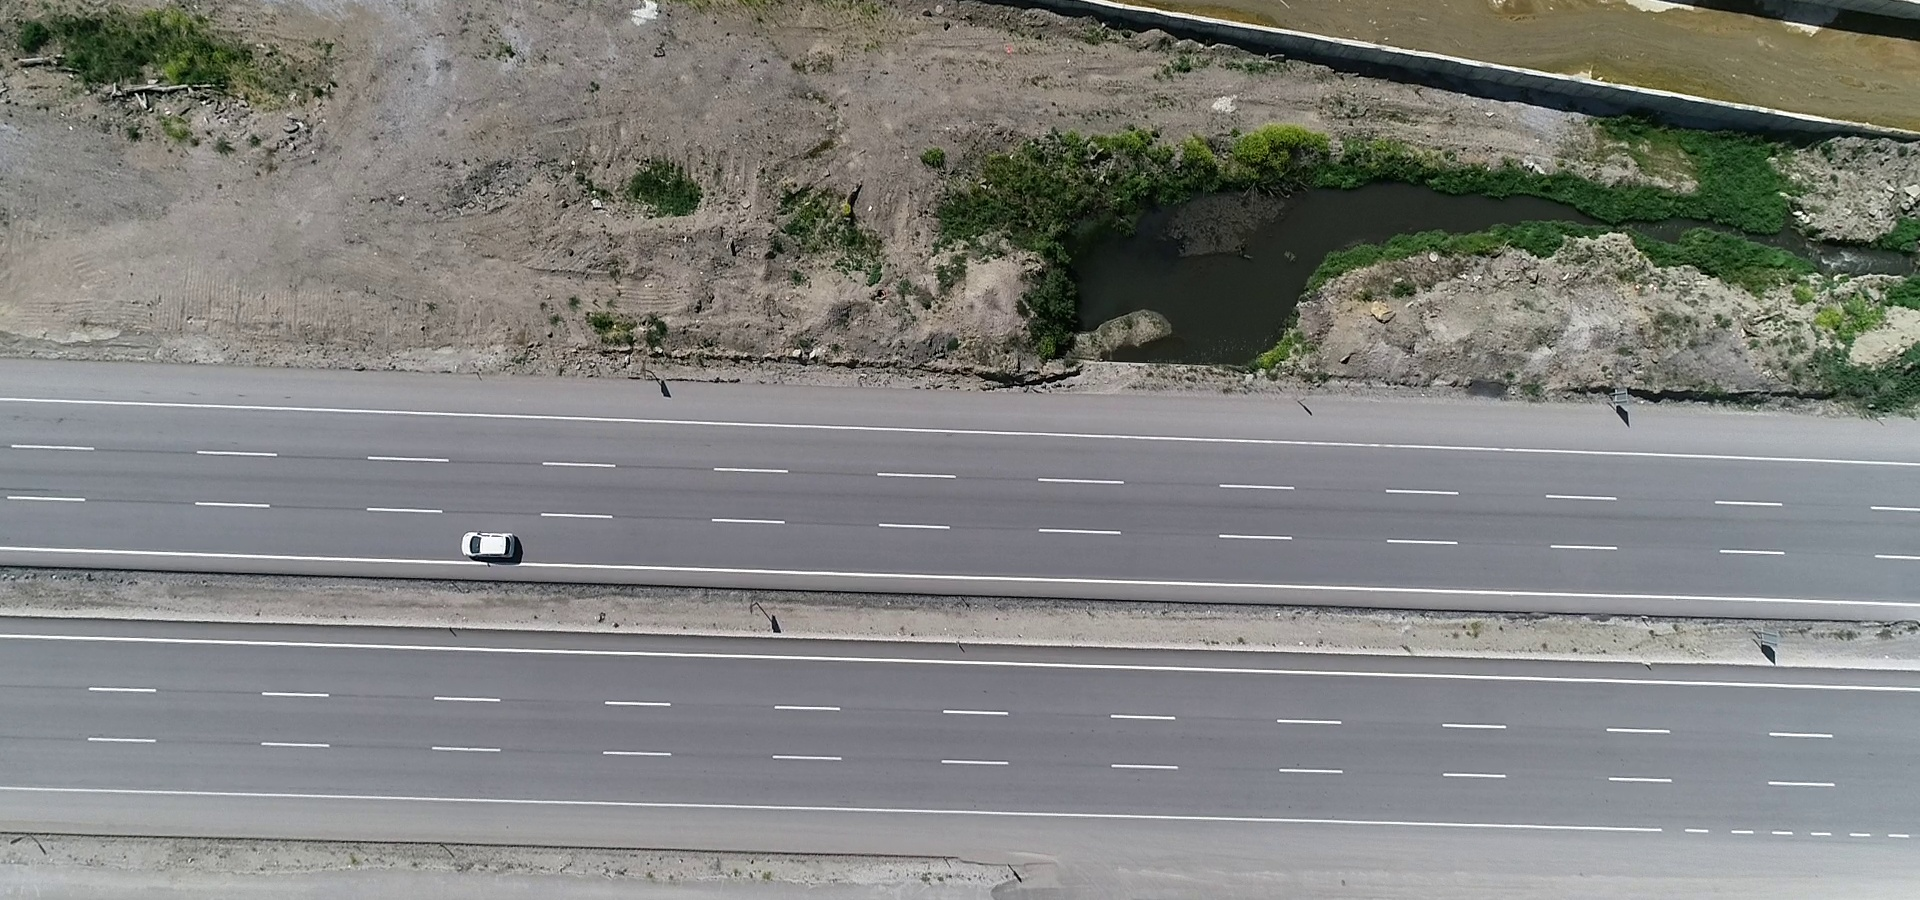arac: (456, 527, 523, 563)
